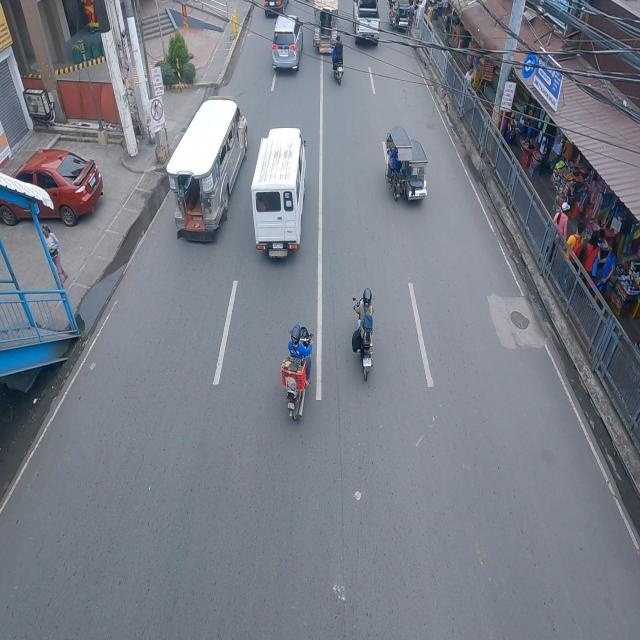Motorcycle: (280, 324, 314, 420), (352, 289, 373, 382), (332, 31, 343, 88)
Truck: (353, 0, 380, 48)
Van: (250, 125, 307, 261)
